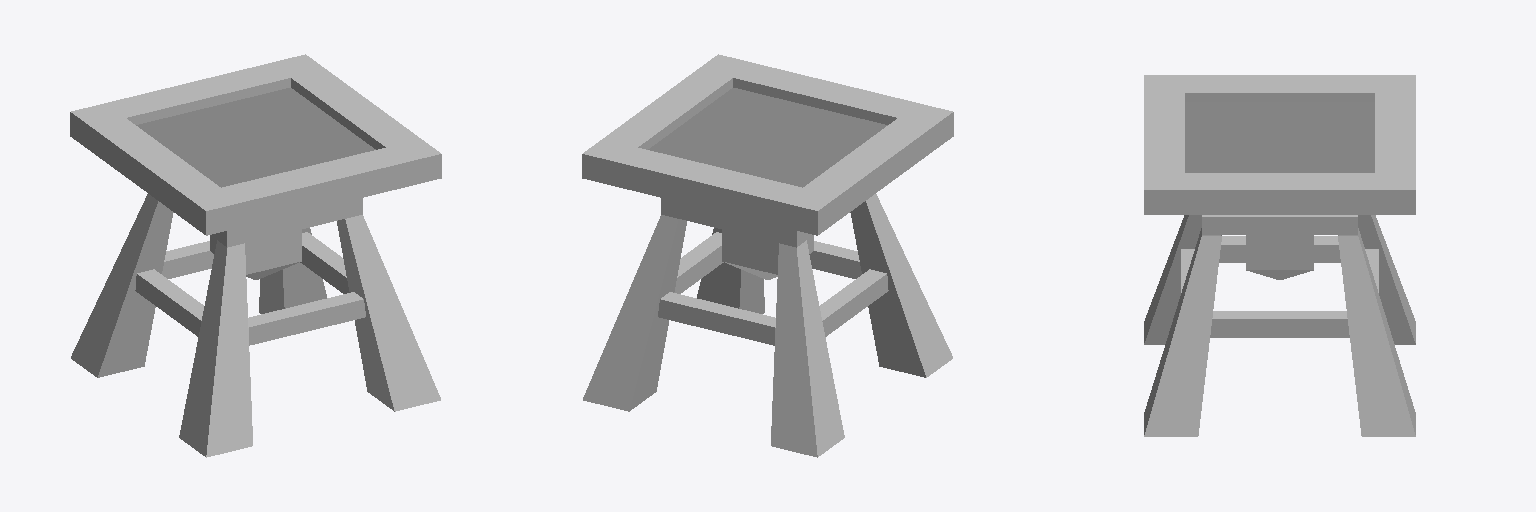
File: radiant_resonator.obj
The picture shows the model from 3 angles: view 1: azimuth 30°, elevation 25°; view 2: azimuth 150°, elevation 25°; view 3: azimuth 270°, elevation 25°; orthographic projection.
Parts seen in each view (by area): view 1: Legs, Bowl, BarsPlane, Crossbars, GoldRing; view 2: Legs, Bowl, BarsPlane, Crossbars, GoldRing; view 3: Bowl, Legs, BarsPlane, Crossbars, GoldRing.
Boxes of the visible parts, box(x1,y1,x2,y2) form: Legs: box(71, 194, 440, 457); Bowl: box(70, 54, 441, 279); BarsPlane: box(136, 88, 375, 187); Crossbars: box(135, 232, 365, 345); GoldRing: box(211, 198, 362, 247); Legs: box(583, 194, 952, 457); Bowl: box(582, 54, 953, 279); BarsPlane: box(648, 88, 887, 187); Crossbars: box(658, 232, 888, 345); GoldRing: box(661, 198, 812, 247); Bowl: box(1144, 75, 1415, 279); Legs: box(1144, 215, 1415, 436); BarsPlane: box(1185, 102, 1374, 172); Crossbars: box(1181, 236, 1378, 337); GoldRing: box(1202, 215, 1357, 234).
Bounding box in the file's own units: 0.9843 × 0.9843 × 0.9843.